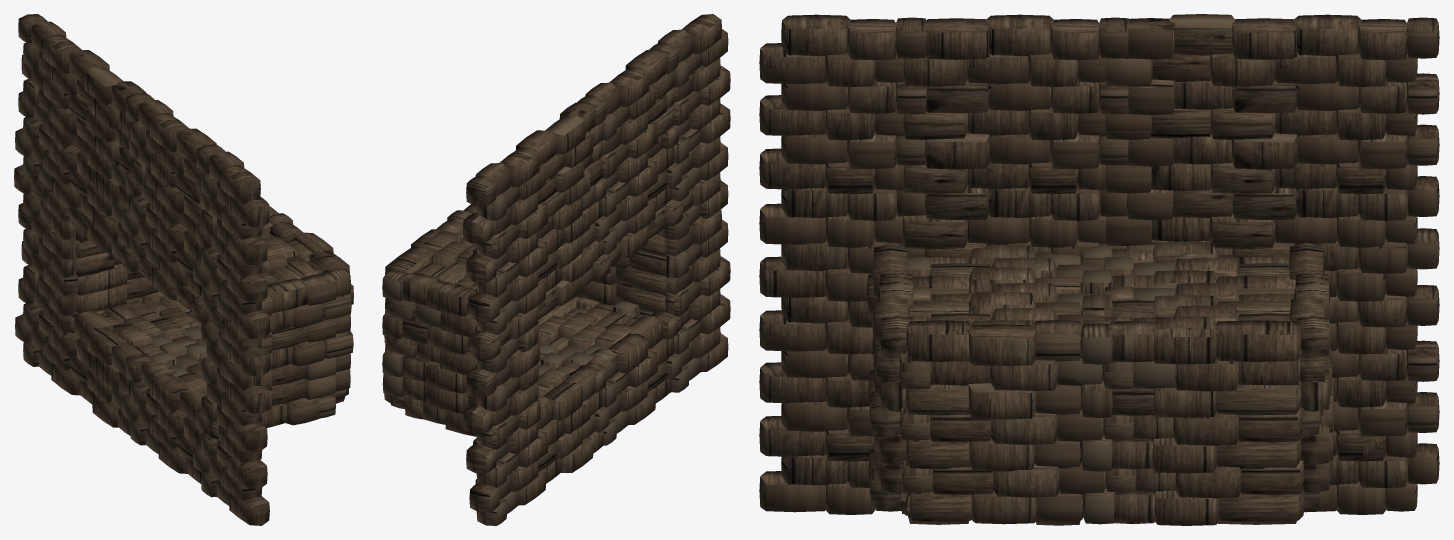
The model's file is ParedTumba.fbx.
3 views of the same model, side by side, from view 1: azimuth 30°, elevation 25°; view 2: azimuth 150°, elevation 25°; view 3: azimuth 270°, elevation 25° (orthographic). The views are drawn at different scales.
Visible parts, largest first — view 1: ParedManew024; view 2: ParedManew024; view 3: ParedManew024.
Boxes of the visible parts, <box> form: ParedManew024: <box>14,14,353,525</box>; ParedManew024: <box>382,14,730,525</box>; ParedManew024: <box>759,14,1439,525</box>.
Bounding box in the file's own units: 219 × 442 × 559.
